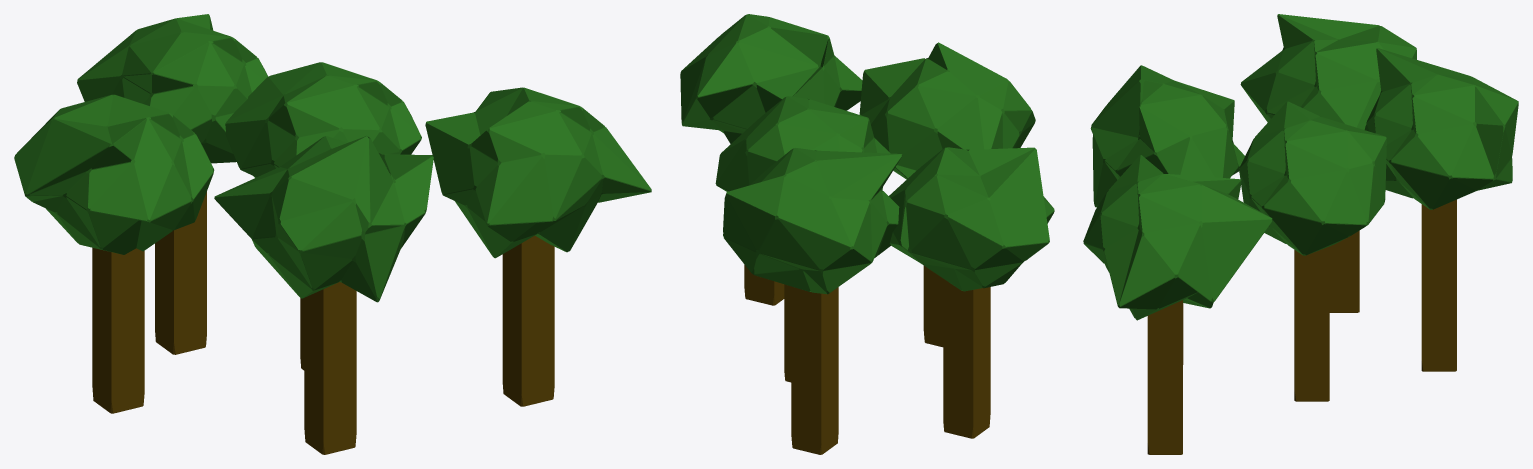
File: tree2.fbx
The picture shows the model from 3 angles, left to right: view 1: azimuth 30°, elevation 25°; view 2: azimuth 150°, elevation 25°; view 3: azimuth 270°, elevation 25°; orthographic projection. The views are drawn at different scales.
Visible parts, largest first — view 1: Cube.001; view 2: Cube.001; view 3: Cube.001.
Boxes of the visible parts, box(x1,y1,x2,y2) form: Cube.001: box(14, 14, 651, 454); Cube.001: box(680, 14, 1054, 454); Cube.001: box(1083, 14, 1518, 454).
Bounding box in the file's own units: 1949 × 1180 × 1571.
